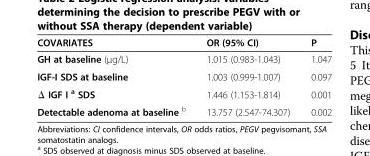table: (36, 36, 331, 117)
table column: (36, 36, 195, 117), (195, 36, 299, 117), (299, 36, 331, 117)
table column header: (36, 36, 331, 49)
table row: (36, 49, 331, 67), (36, 84, 331, 102), (36, 67, 331, 84), (36, 102, 331, 117), (36, 36, 331, 49)
